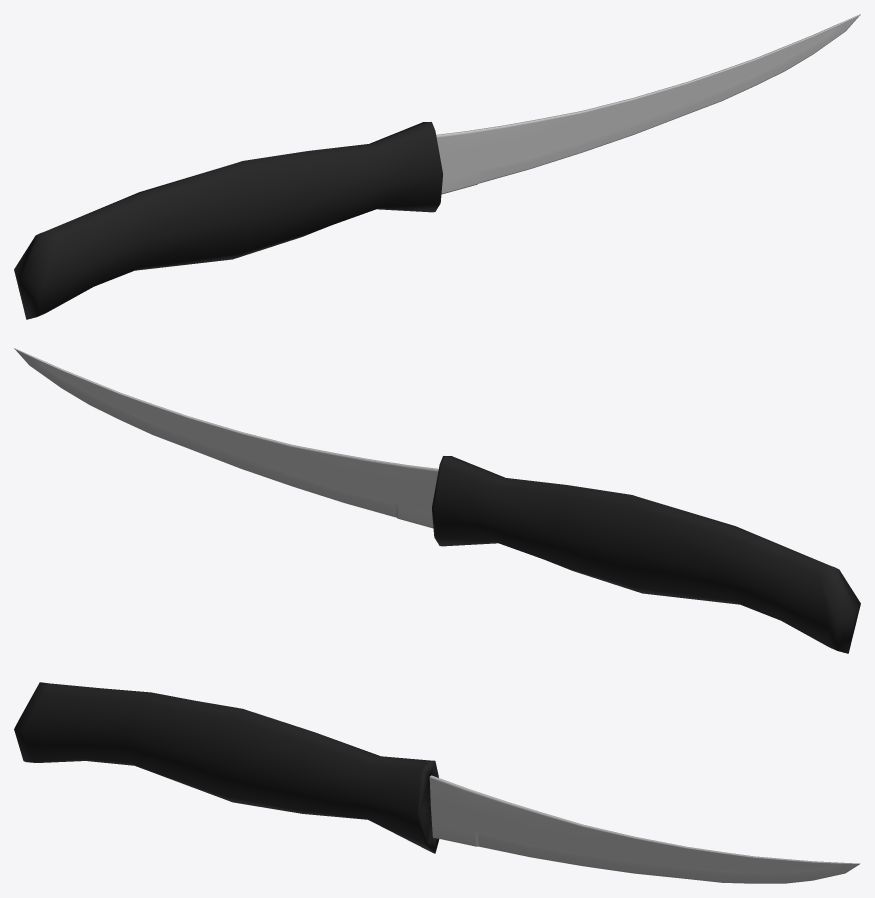
The model's file is Knife_1.fbx.
3 views of the same model, one above another, from view 1: azimuth 30°, elevation 25°; view 2: azimuth 150°, elevation 25°; view 3: azimuth 330°, elevation 25° (orthographic).
Parts seen in each view (by area): view 1: Plane_001; view 2: Plane_001; view 3: Plane_001.
Part boxes in pixels (bbox=[...]): Plane_001: bbox=[14, 14, 860, 319]; Plane_001: bbox=[14, 348, 860, 653]; Plane_001: bbox=[14, 682, 860, 883].
Size of the model in its own units: 8.5 by 1.03 by 0.4523.
2 materials, 2 textured.
